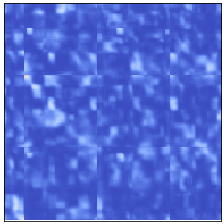action_path: (21, 75, 96, 149)
